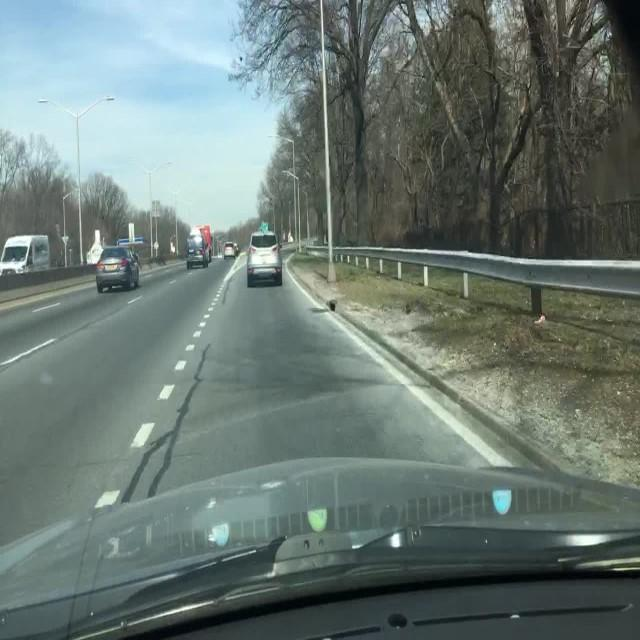normal: (215, 218, 307, 291), (82, 228, 172, 296)
